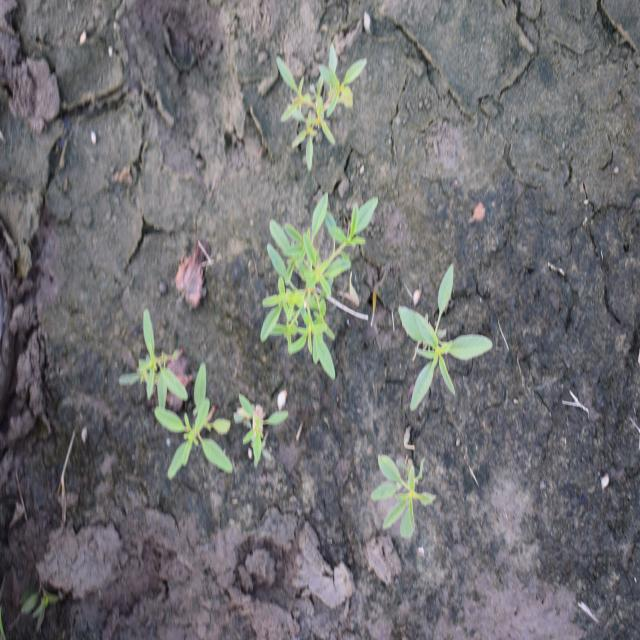Waterhemp: (259, 191, 380, 383), (398, 263, 494, 414), (276, 40, 369, 174), (153, 360, 235, 486), (116, 305, 190, 415), (371, 452, 438, 539), (237, 394, 291, 472)
